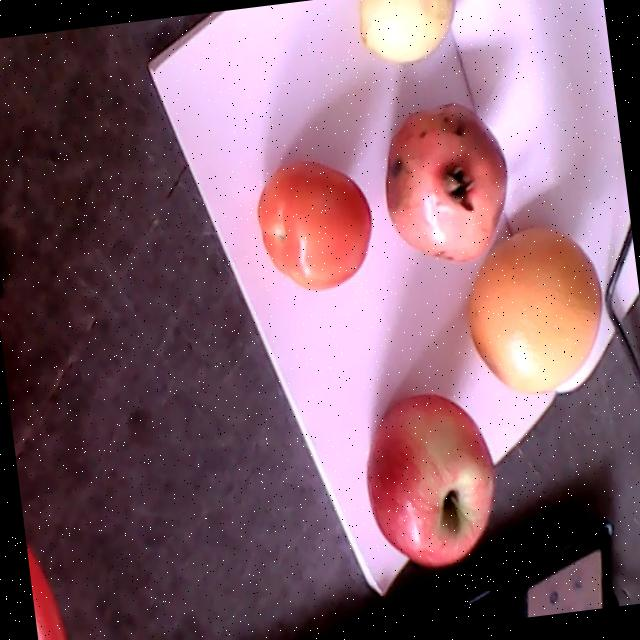apple: (367, 393, 493, 564)
lemon: (357, 0, 453, 60)
orange: (468, 227, 599, 390)
pomegranate: (383, 102, 506, 265)
tomato: (255, 158, 370, 289)
